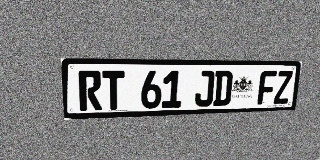1: (162, 71, 183, 108)
6: (141, 70, 162, 109)
D: (213, 71, 233, 106)
F: (257, 71, 277, 105)
J: (194, 71, 215, 107)
R: (78, 70, 102, 111)
T: (102, 70, 124, 110)
Z: (273, 71, 293, 104)
